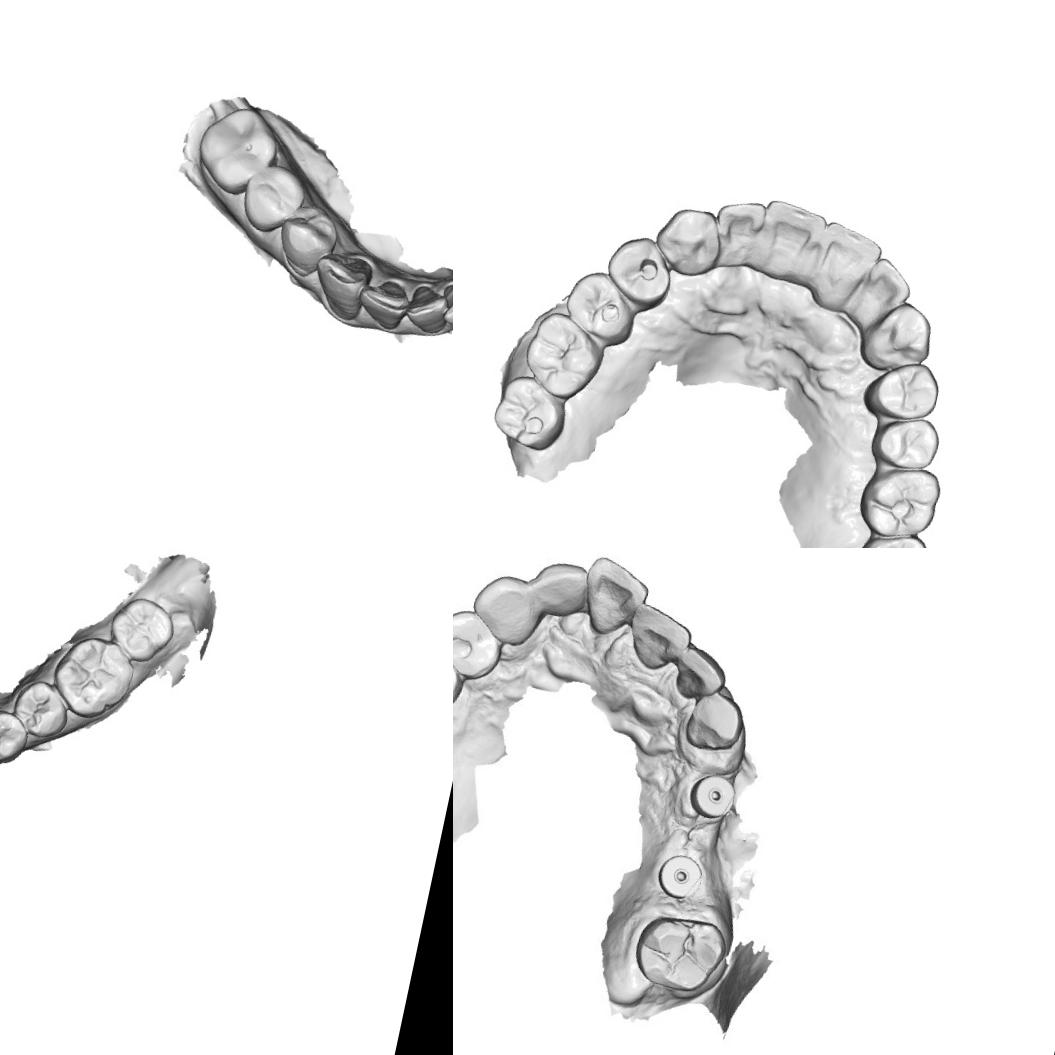canine: (860, 293, 943, 376), (464, 570, 545, 652), (649, 198, 728, 282), (678, 686, 749, 763), (303, 248, 373, 324)
implant: (652, 845, 710, 907), (688, 767, 742, 822)
incisor: (748, 194, 832, 288), (810, 216, 886, 306), (706, 192, 771, 275), (582, 558, 648, 637), (850, 252, 918, 325), (623, 606, 694, 674), (353, 272, 414, 334), (533, 558, 594, 620), (672, 645, 730, 704), (400, 278, 453, 336), (434, 279, 453, 335)
molar: (626, 905, 736, 1006), (188, 96, 286, 204), (516, 303, 613, 406), (44, 628, 142, 728), (854, 456, 944, 548), (486, 369, 574, 456), (104, 591, 181, 668), (850, 523, 932, 548)
premolar: (555, 263, 642, 350), (598, 227, 679, 313), (859, 352, 945, 430), (237, 158, 312, 240), (270, 204, 342, 282), (866, 408, 945, 476), (7, 675, 75, 744), (453, 610, 505, 678), (0, 704, 32, 768)
